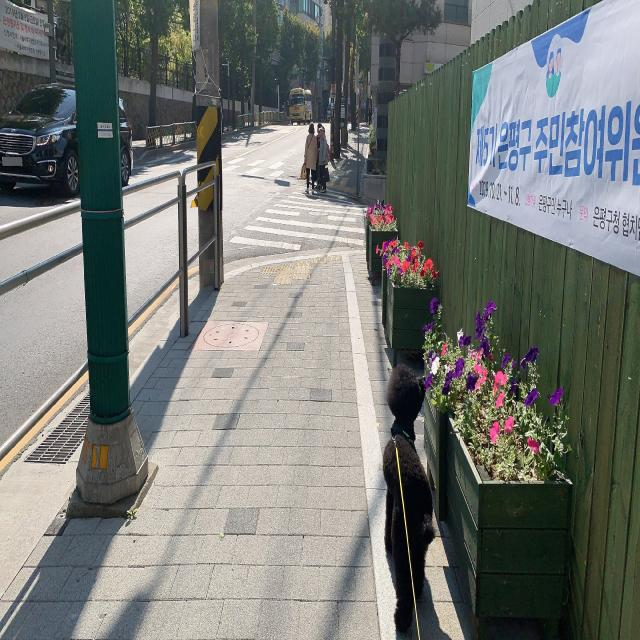횡단보도: (228, 186, 369, 252)
